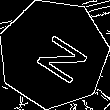N_NW: (21, 23, 86, 84)
